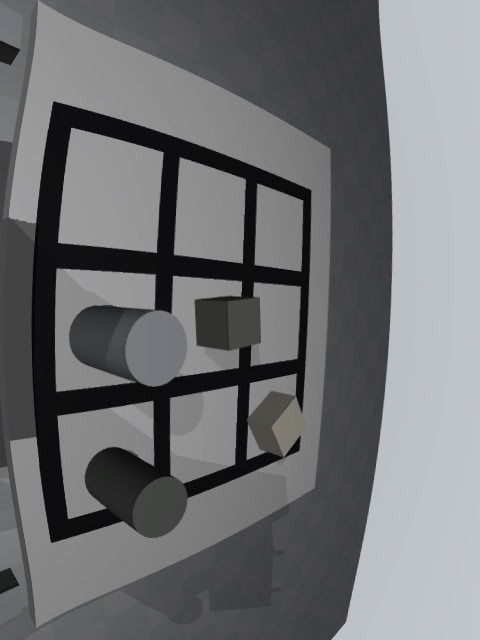can: (69, 306, 187, 387)
cube: (194, 297, 261, 350)
cylinder: (85, 447, 188, 538)
foam: (247, 391, 307, 458)
